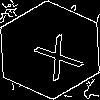X: (25, 25, 85, 82)
